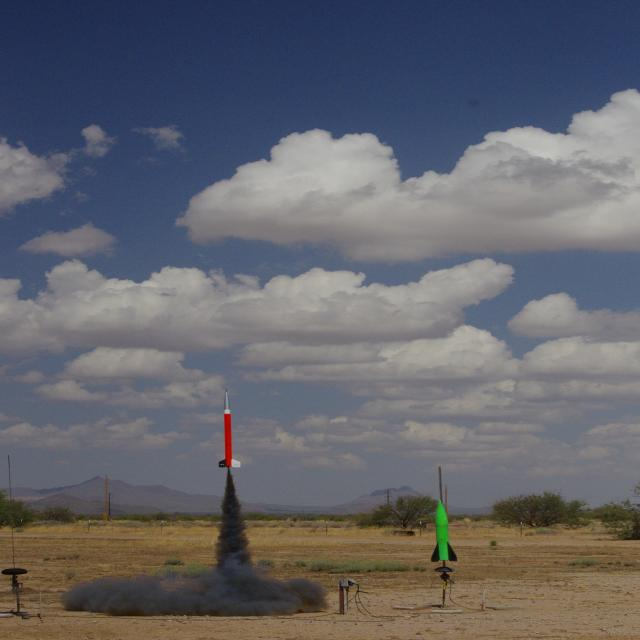Rocket: (218, 390, 241, 468), (431, 499, 457, 562)
